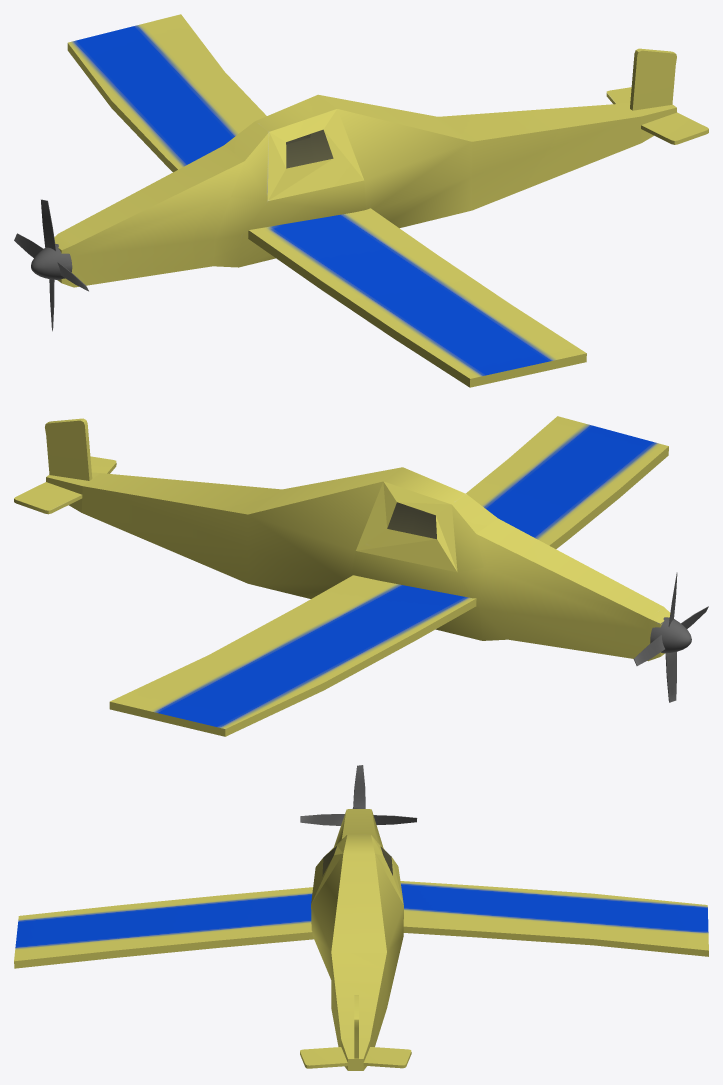
The model's file is Planes.FBX.
3 renders of one model, top to bottom at view 1: azimuth 30°, elevation 25°; view 2: azimuth 150°, elevation 25°; view 3: azimuth 270°, elevation 25°, orthographic. The views are drawn at different scales.
Visible parts, largest first — view 1: Box005, Object001; view 2: Box005, Object001; view 3: Box005.
Boxes of the visible parts, <box> form: Box005: <box>14,14,708,387</box>; Object001: <box>286,129,333,168</box>; Box005: <box>14,416,708,736</box>; Object001: <box>387,502,436,539</box>; Box005: <box>14,765,708,1070</box>.
Size of the model in its own units: 160 by 37.85 by 183.
